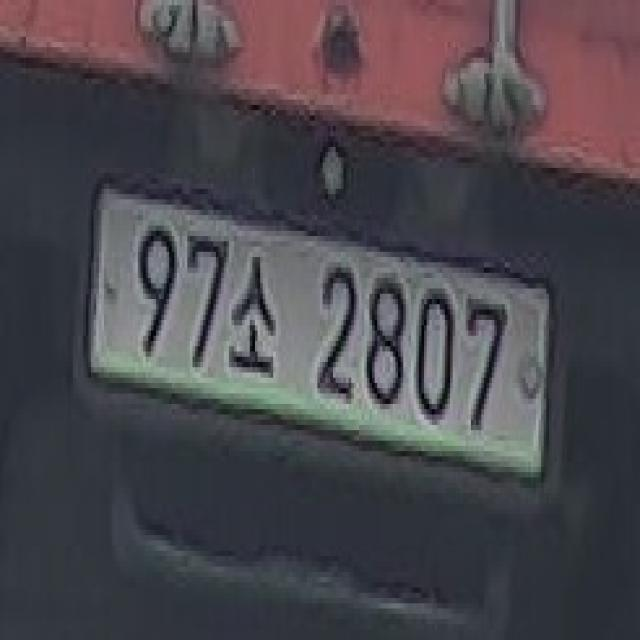0: (418, 271, 454, 437)
2: (320, 254, 358, 416)
7: (461, 280, 508, 438), (183, 215, 228, 373)
8: (367, 266, 407, 422)
9: (137, 214, 179, 366)
license_plate: (88, 179, 553, 493)
so: (231, 248, 279, 384)
